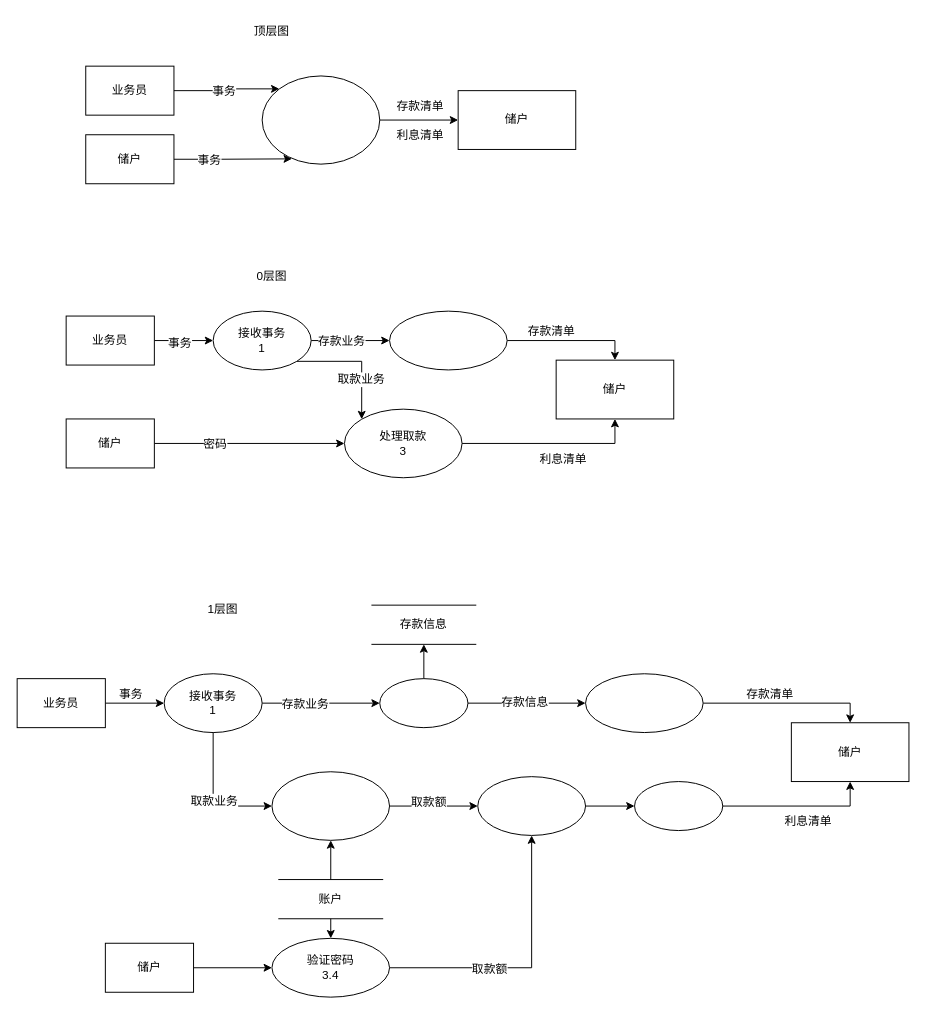
This 926x1014 diagram has some shape labels left out. Here are the shapes that lost their labels. From the top down, the centre of each, then its label:
(320,119): 银行存储系统
(448,340): 处理存款 2
(423,703): 记录存款信息 2.1
(644,703): 打印存款清单 2.2
(330,805): 合法性验证 3.1
(531,805): 计算利息 3.2
(678,806): 打印利息清单 3.3
